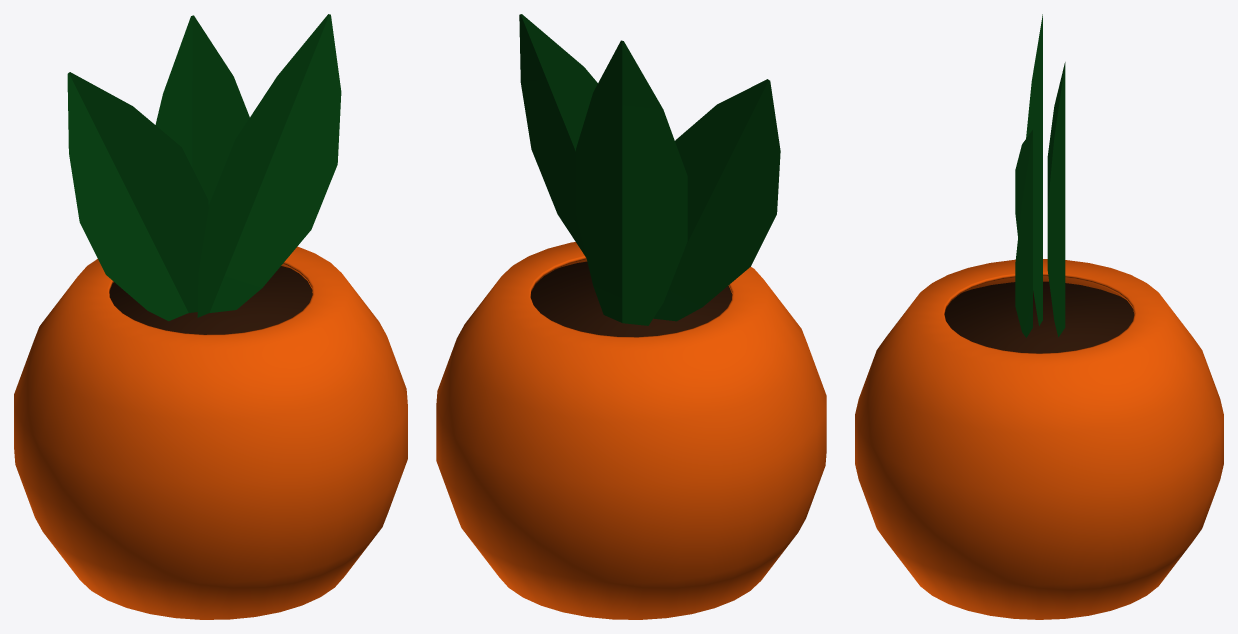
The model's file is plantPot.fbx.
3 views of the same model, side by side, from view 1: azimuth 30°, elevation 25°; view 2: azimuth 150°, elevation 25°; view 3: azimuth 270°, elevation 25° (orthographic). The views are drawn at different scales.
Parts seen in each view (by area): view 1: plantPot; view 2: plantPot; view 3: plantPot.
Boxes of the visible parts, x1=… form: plantPot: x1=14, y1=14, x2=407, y2=619; plantPot: x1=436, y1=14, x2=826, y2=619; plantPot: x1=855, y1=14, x2=1223, y2=619.
Size of the model in its own units: 110 by 165 by 110.
